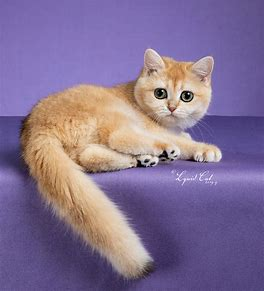cat: (17, 37, 227, 264)
